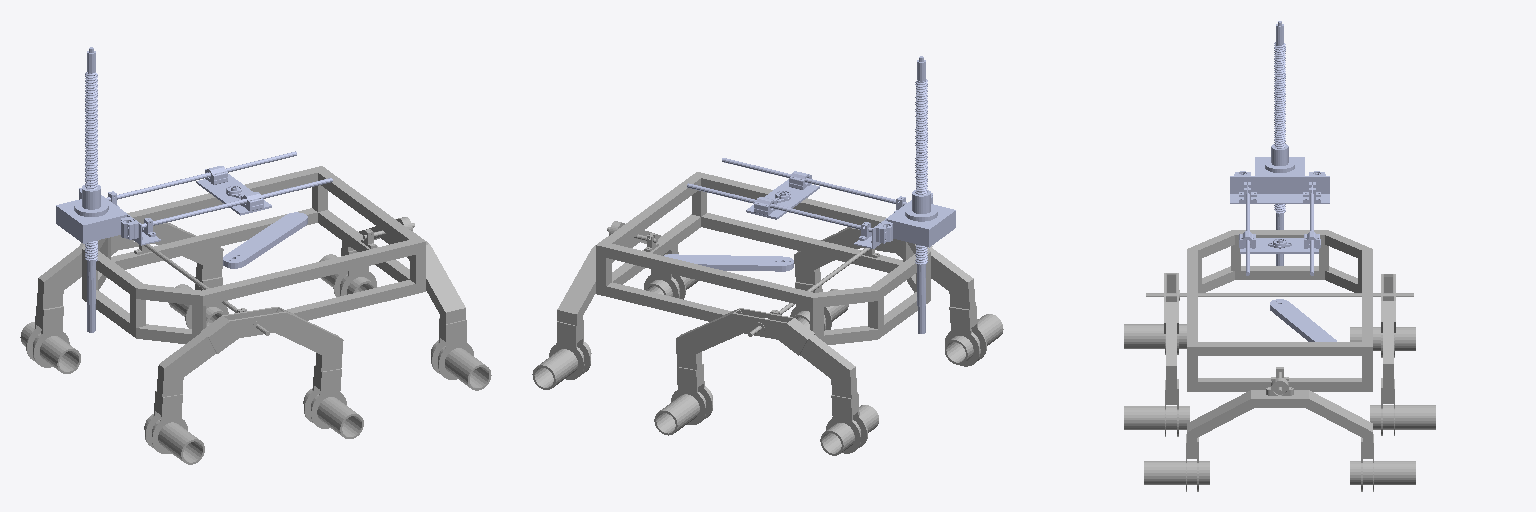
URDF robot description (cwmprism):
<robot
  name="cwmprism">
  <link
    name="base_link">
    <inertial>
      <origin
        xyz="0.957358894955478 -0.524270710975352 0.57783481713303"
        rpy="0 0 0" />
      <mass
        value="6.89503487299706" />
      <inertia
        ixx="0.463910832861563"
        ixy="-0.0084784653149954"
        ixz="0.0190215304922888"
        iyy="0.628402143448255"
        iyz="-0.00186739141190468"
        izz="0.916769880592964" />
    </inertial>
    <visual>
      <origin
        xyz="0 0 0"
        rpy="0 0 0" />
      <geometry>
        <mesh
          filename="package://cwmprism/meshes/base_link.STL" />
      </geometry>
      <material
        name="">
        <color
          rgba="0.752941176470588 0.752941176470588 0.752941176470588 1" />
      </material>
    </visual>
    <collision>
      <origin
        xyz="0 0 0"
        rpy="0 0 0" />
      <geometry>
        <mesh
          filename="package://cwmprism/meshes/base_link.STL" />
      </geometry>
    </collision>
  </link>
  <link
    name="leadscrew1">
    <inertial>
      <origin
        xyz="-6.30357688269356E-08 4.02639119101433E-07 0.324940436594481"
        rpy="0 0 0" />
      <mass
        value="0.287159850984848" />
      <inertia
        ixx="0.00924492168342225"
        ixy="-1.83415781260937E-09"
        ixz="5.55212203406239E-09"
        iyy="0.00924492202484706"
        iyz="6.9301050911992E-07"
        izz="2.07922902903099E-05" />
    </inertial>
    <visual>
      <origin
        xyz="0 0 0"
        rpy="0 0 0" />
      <geometry>
        <mesh
          filename="package://cwmprism/meshes/leadscrew1.STL" />
      </geometry>
      <material
        name="">
        <color
          rgba="0.792156862745098 0.819607843137255 0.933333333333333 1" />
      </material>
    </visual>
    <collision>
      <origin
        xyz="0 0 0"
        rpy="0 0 0" />
      <geometry>
        <mesh
          filename="package://cwmprism/meshes/leadscrew1.STL" />
      </geometry>
    </collision>
  </link>
  <joint
    name="1"
    type="fixed">
    <origin
      xyz="0.54787 -0.52152 1.2965"
      rpy="3.1416 -5.1319E-17 -0.99384" />
    <parent
      link="base_link" />
    <child
      link="leadscrew1" />
    <axis
      xyz="0 0 0" />
  </joint>
  <link
    name="leadnut1">
    <inertial>
      <origin
        xyz="-0.0599918389970476 -0.0161021336391436 0.0200515833907489"
        rpy="0 0 0" />
      <mass
        value="0.879482230835278" />
      <inertia
        ixx="0.00933870379244803"
        ixy="9.20607449102261E-08"
        ixz="-2.13507206809233E-08"
        iyy="0.00251261230402863"
        iyz="-0.000278135485909877"
        izz="0.0112743094002328" />
    </inertial>
    <visual>
      <origin
        xyz="0 0 0"
        rpy="0 0 0" />
      <geometry>
        <mesh
          filename="package://cwmprism/meshes/leadnut1.STL" />
      </geometry>
      <material
        name="">
        <color
          rgba="0.792156862745098 0.819607843137255 0.933333333333333 1" />
      </material>
    </visual>
    <collision>
      <origin
        xyz="0 0 0"
        rpy="0 0 0" />
      <geometry>
        <mesh
          filename="package://cwmprism/meshes/leadnut1.STL" />
      </geometry>
    </collision>
  </link>
  <joint
    name="2"
    type="prismatic">
    <origin
      xyz="-0.020287 -0.078825 0.23776"
      rpy="0 0 -2.5646" />
    <parent
      link="leadscrew1" />
    <child
      link="leadnut1" />
    <axis
      xyz="0 0 1" />
    <limit
      lower="0.1"
      upper="0.2"
      effort="70"
      velocity="0.5" />
  </joint>
  <link
    name="sliding">
    <inertial>
      <origin
        xyz="-0.0960066404534474 0.0399997757235483 -0.00927466639365182"
        rpy="0 0 0" />
      <mass
        value="0.144460832584404" />
      <inertia
        ixx="5.89883504621228E-05"
        ixy="-2.77585124159905E-09"
        ixz="-1.52526839414019E-07"
        iyy="0.000615903805069502"
        iyz="-3.34576694505401E-10"
        izz="0.000651307338551225" />
    </inertial>
    <visual>
      <origin
        xyz="0 0 0"
        rpy="0 0 0" />
      <geometry>
        <mesh
          filename="package://cwmprism/meshes/sliding.STL" />
      </geometry>
      <material
        name="">
        <color
          rgba="0.792156862745098 0.819607843137255 0.933333333333333 1" />
      </material>
    </visual>
    <collision>
      <origin
        xyz="0 0 0"
        rpy="0 0 0" />
      <geometry>
        <mesh
          filename="package://cwmprism/meshes/sliding.STL" />
      </geometry>
    </collision>
  </link>
  <joint
    name="3"
    type="prismatic">
    <origin
      xyz="0.035504 0.2628 0.048458"
      rpy="0 0 0" />
    <parent
      link="leadnut1" />
    <child
      link="sliding" />
    <axis
      xyz="0 1 0" />
    <limit
      lower="0"
      upper="1"
      effort="70"
      velocity="0.5" />
  </joint>
  <link
    name="revolute">
    <inertial>
      <origin
        xyz="-0.123821502813402 -9.87257942064446E-09 0.00700000827343839"
        rpy="0 0 0" />
      <mass
        value="0.20059769694145" />
      <inertia
        ixx="4.40212550724925E-05"
        ixy="1.11452595199721E-17"
        ixz="-5.80463391679467E-19"
        iyy="0.00139142066236795"
        iyz="-1.53412280713357E-21"
        izz="0.00142888905934036" />
    </inertial>
    <visual>
      <origin
        xyz="0 0 0"
        rpy="0 0 0" />
      <geometry>
        <mesh
          filename="package://cwmprism/meshes/revolute.STL" />
      </geometry>
      <material
        name="">
        <color
          rgba="0.792156862745098 0.819607843137255 0.933333333333333 1" />
      </material>
    </visual>
    <collision>
      <origin
        xyz="0 0 0"
        rpy="0 0 0" />
      <geometry>
        <mesh
          filename="package://cwmprism/meshes/revolute.STL" />
      </geometry>
    </collision>
  </link>
  <joint
    name="4"
    type="revolute">
    <origin
      xyz="0.019045 0.26199 0.164"
      rpy="3.1416 0 1.0929" />
    <parent
      link="sliding" />
    <child
      link="revolute" />
     <limit
      lower="0"
upper="6.28"
effort="0.05"
velocity="0.05"
/>
    <axis
      xyz="0 0 1" />
  </joint>
</robot>

--- What the picture shows (computed from the rendered views, not written in the file) ---
3 views of the same robot in one strip: view 1: azimuth 30°, elevation 25°; view 2: azimuth 150°, elevation 25°; view 3: azimuth 270°, elevation 25° (orthographic).
Robot: cwmprism — 5 links, 4 joints (1 revolute, 2 prismatic, 1 fixed); root link base_link; default pose: joints at zero except 1 at the middle of their limits (2 = 0.15).
Links seen in each view (by area): view 1: base_link, leadnut1, leadscrew1, revolute, sliding; view 2: base_link, leadnut1, leadscrew1, revolute, sliding; view 3: base_link, leadnut1, leadscrew1, sliding, revolute.
Boxes of the visible links, box(x1,y1,x2,y2) form: base_link: box(20, 166, 491, 464); leadnut1: box(56, 151, 332, 245); leadscrew1: box(85, 47, 97, 332); revolute: box(223, 212, 307, 268); sliding: box(196, 166, 271, 215); base_link: box(532, 172, 1003, 455); leadnut1: box(687, 158, 955, 248); leadscrew1: box(915, 56, 927, 333); revolute: box(664, 254, 793, 271); sliding: box(746, 171, 819, 219); base_link: box(1124, 230, 1435, 491); leadnut1: box(1230, 144, 1329, 275); leadscrew1: box(1274, 21, 1285, 265); sliding: box(1239, 231, 1320, 253); revolute: box(1270, 299, 1336, 341).
Bounding box of the posed robot: 0.8839 × 0.756 × 0.9006 m (x, y, z).
5 mesh visuals loaded from 5 distinct referenced files (5 binary STL).
